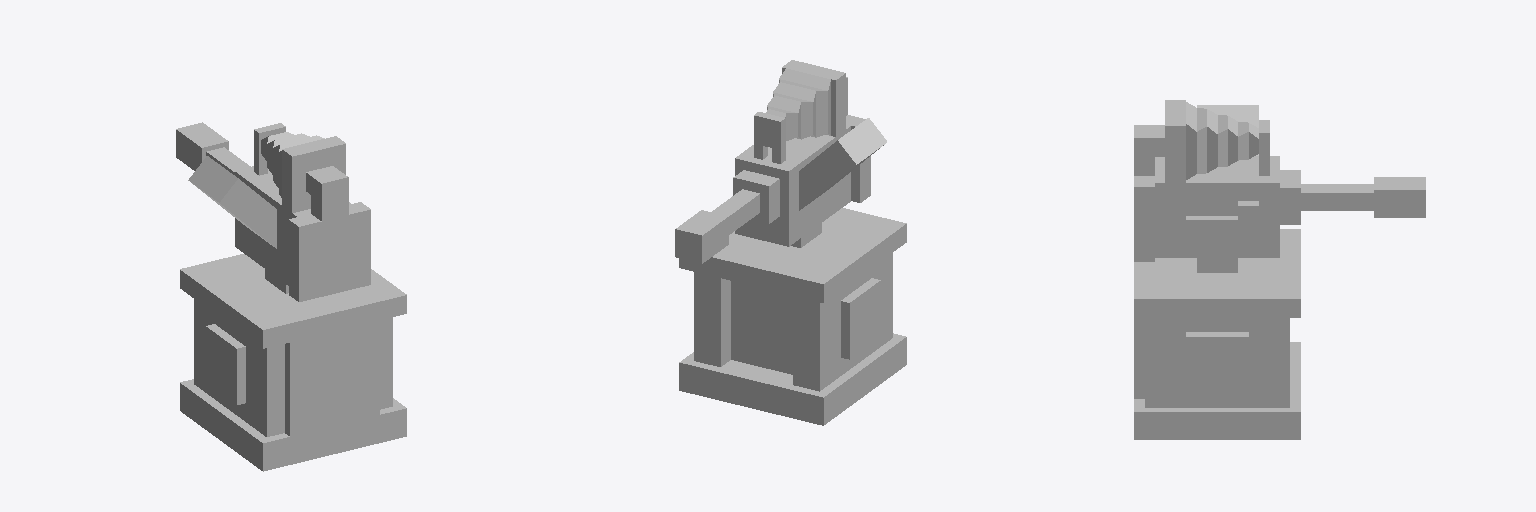
File: gun_turret_inv.obj
3 views of the same model, side by side, from view 1: azimuth 30°, elevation 25°; view 2: azimuth 150°, elevation 25°; view 3: azimuth 270°, elevation 25° (orthographic).
Parts seen in each view (by area): view 1: base, gun; view 2: base, gun; view 3: base, gun, action.
Boxes of the visible parts, box(x1,y1,x2,y2) form: base: box(180, 254, 406, 471); gun: box(176, 122, 370, 301); base: box(679, 208, 906, 425); gun: box(675, 60, 886, 263); base: box(1134, 229, 1300, 439); gun: box(1134, 100, 1425, 272); action: box(1186, 201, 1258, 224).
Size of the model in its own units: 1.09 by 1.94 by 1.75.